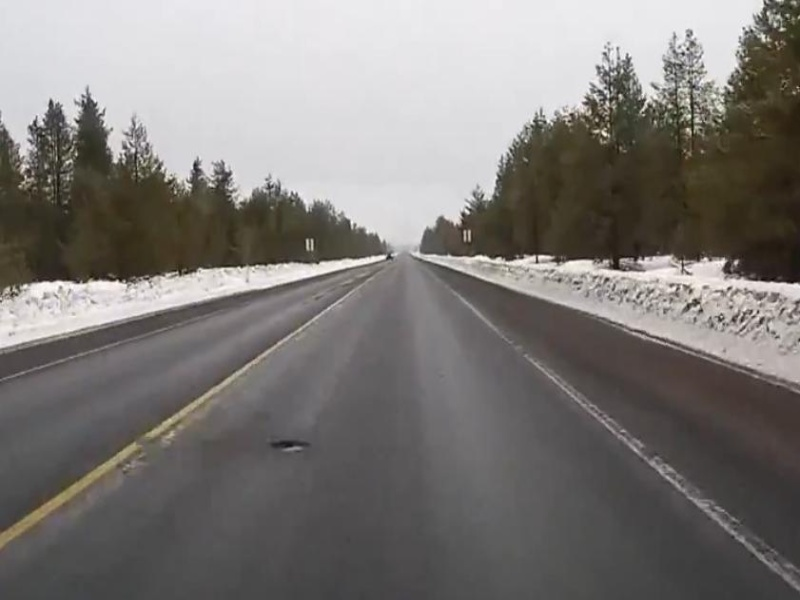pothole: (268, 436, 316, 457)
